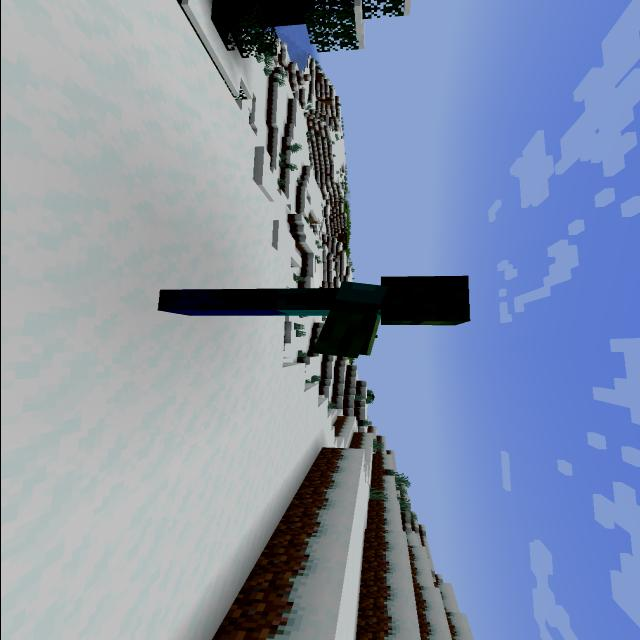Zombie: (140, 267, 487, 364)
